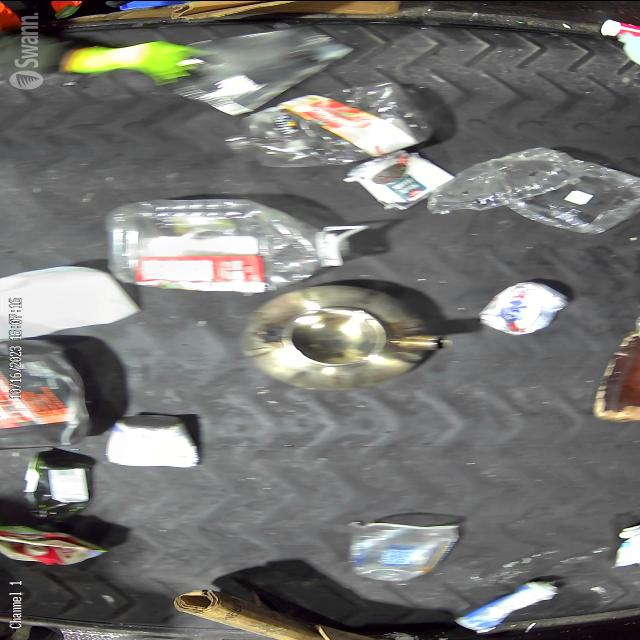can: (99, 416, 202, 468)
plastic_bottle: (215, 78, 412, 168)
